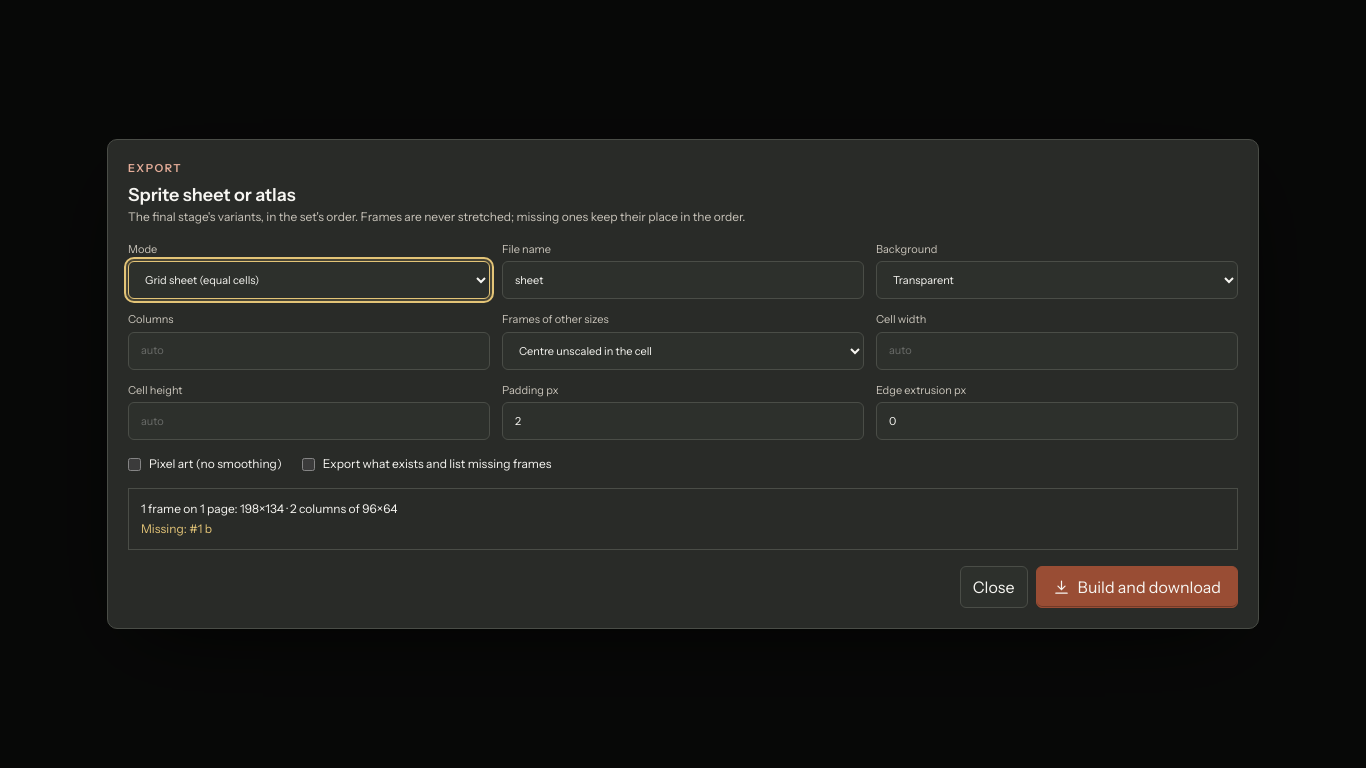
SpriteExportDialog › builds, downloads, and keeps the artifact's checksum on screen
Expected: the text "1 frame on 1 page: 198×134 · 2 columns of 96×64" is shown, [141,501,398,516]
Click the button "Build and download" at x=1137, y=587, box [1036,566,1238,608]
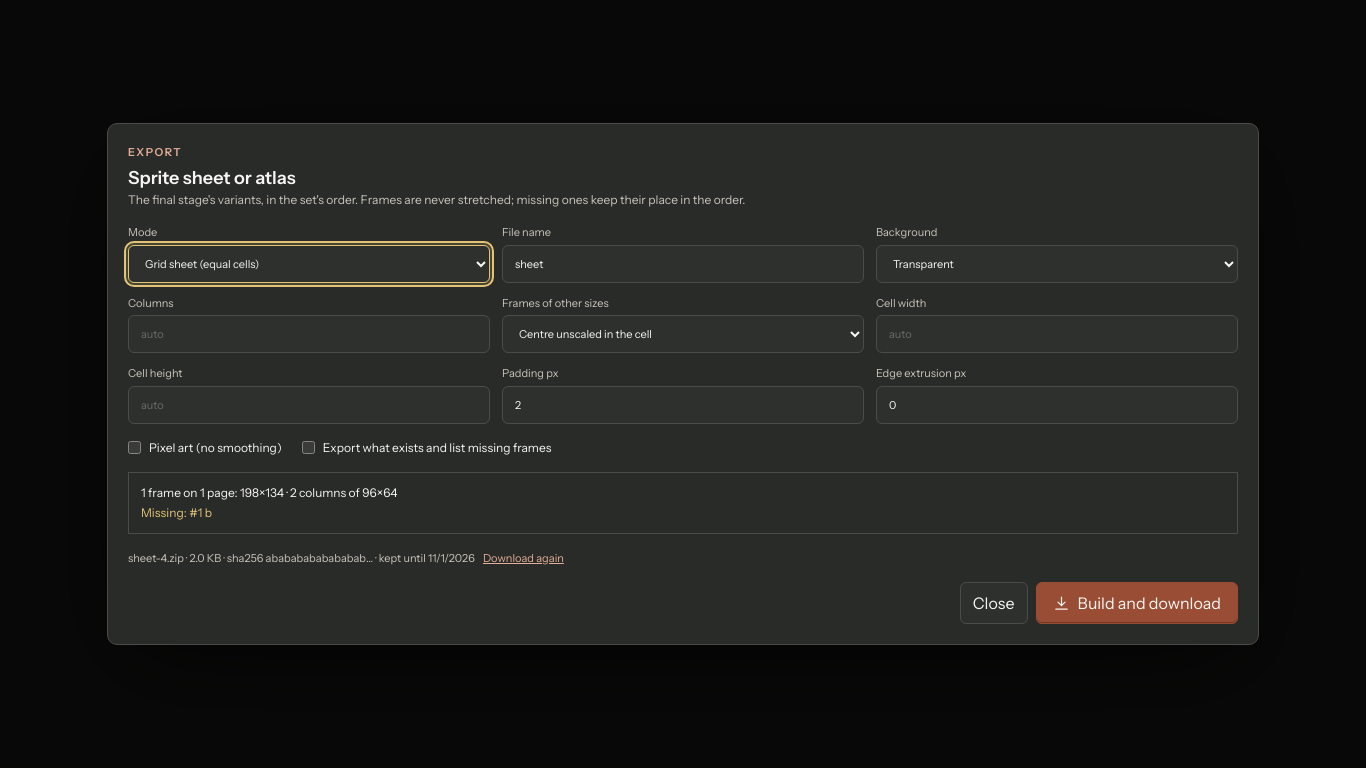
Expected: the element with test id "sprite-artifact" shows "sha256 abababababababab", [128,550,564,566]
